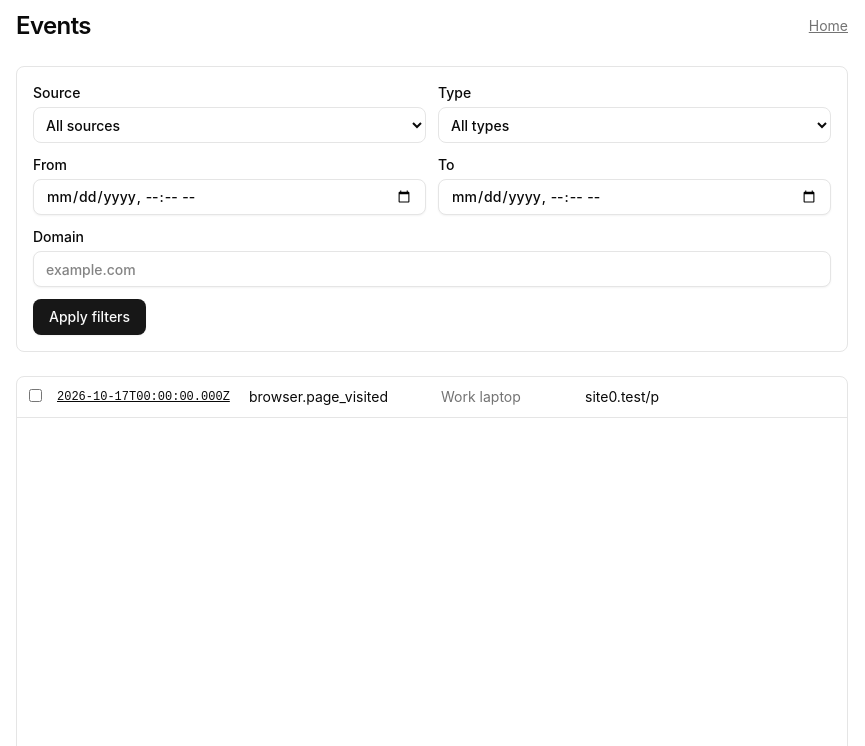
it: events page › flags a domain like https://github.com next to the field and sends no request
Type "https://github.com" into the field labelled "Domain". click: (432, 269)
box: [33, 251, 831, 287]
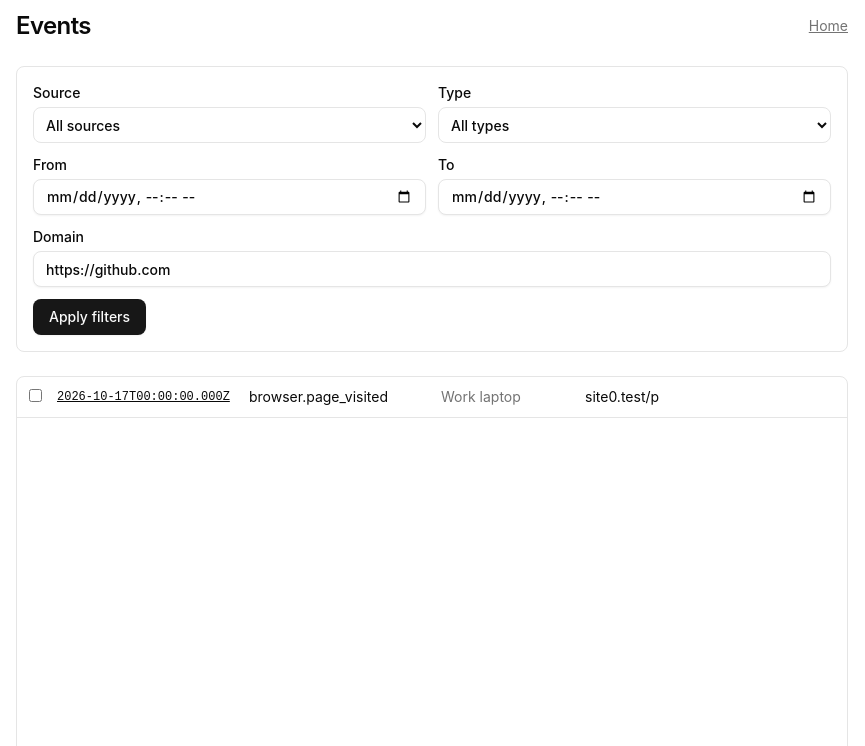
Click the button "Apply filters". click: (90, 317)
box: [33, 299, 146, 335]
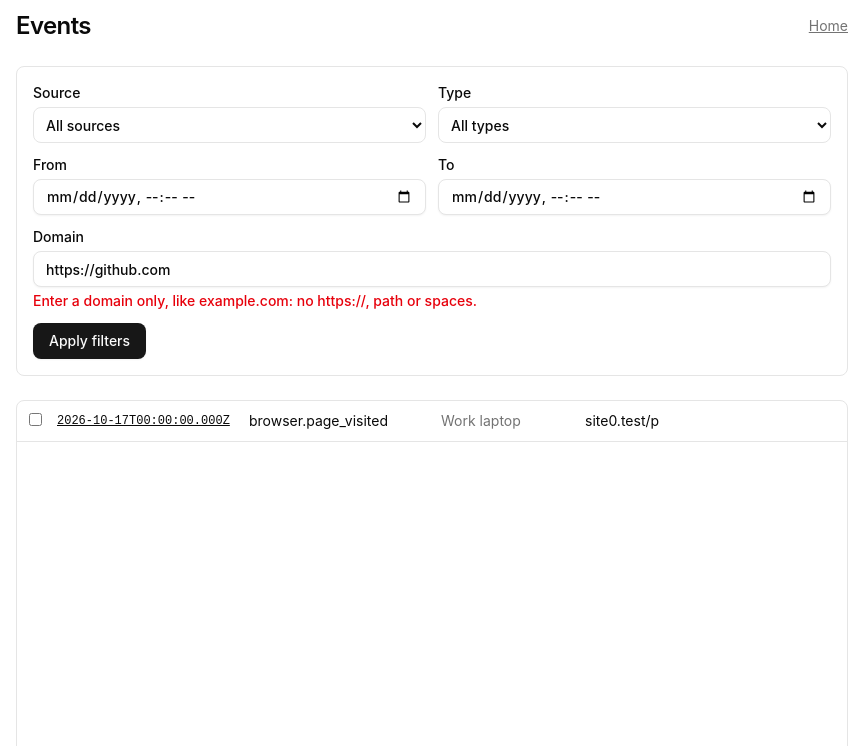
Check: the message shows "domain", box [33, 292, 477, 309]
